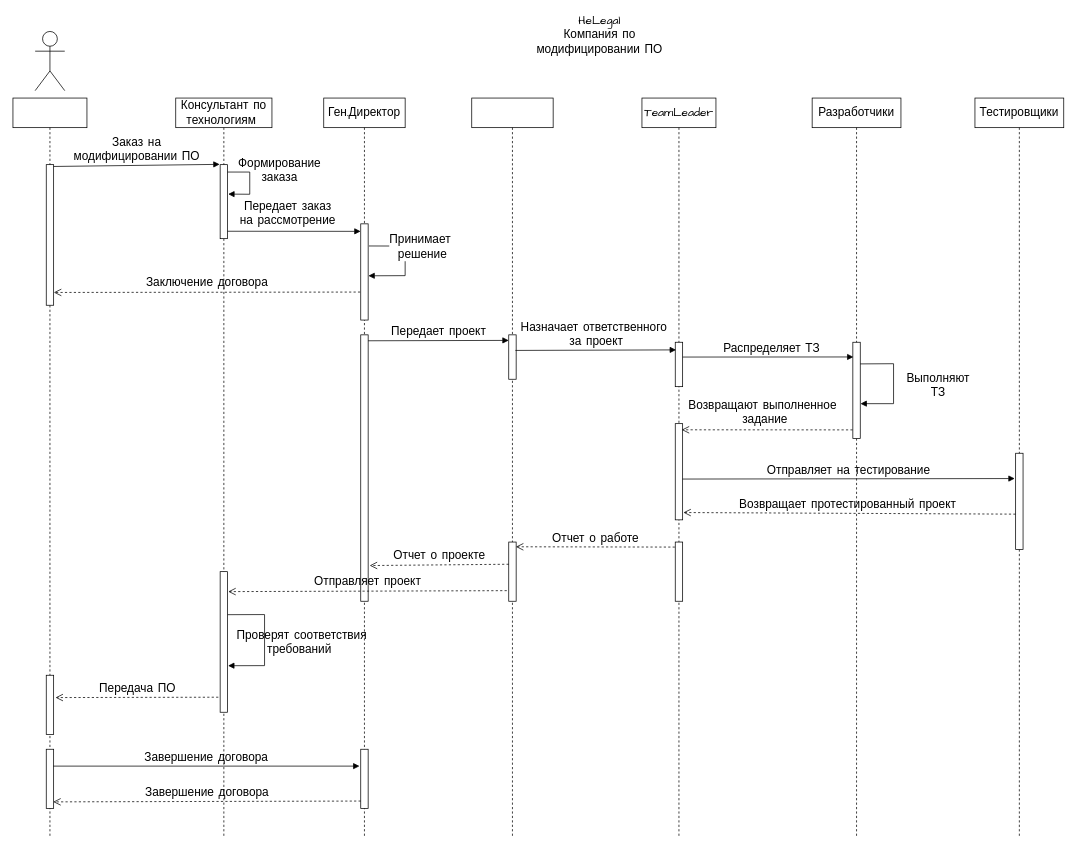
Some shapes in this 1077 by 851 pixel diagram are drawn without their labels. The shapes that lost their labels are listed below. From the top down, each one's box as (x1, y1, x2, y2) in pixels, then its label:
(12, 97, 87, 838): Заказчик (Microsoft)
(471, 97, 553, 838): Руководитель
